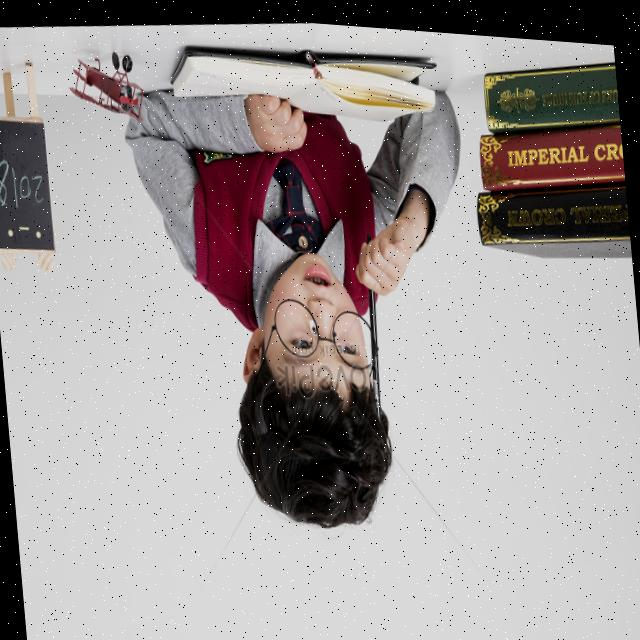studying-person: (99, 6, 501, 570)
